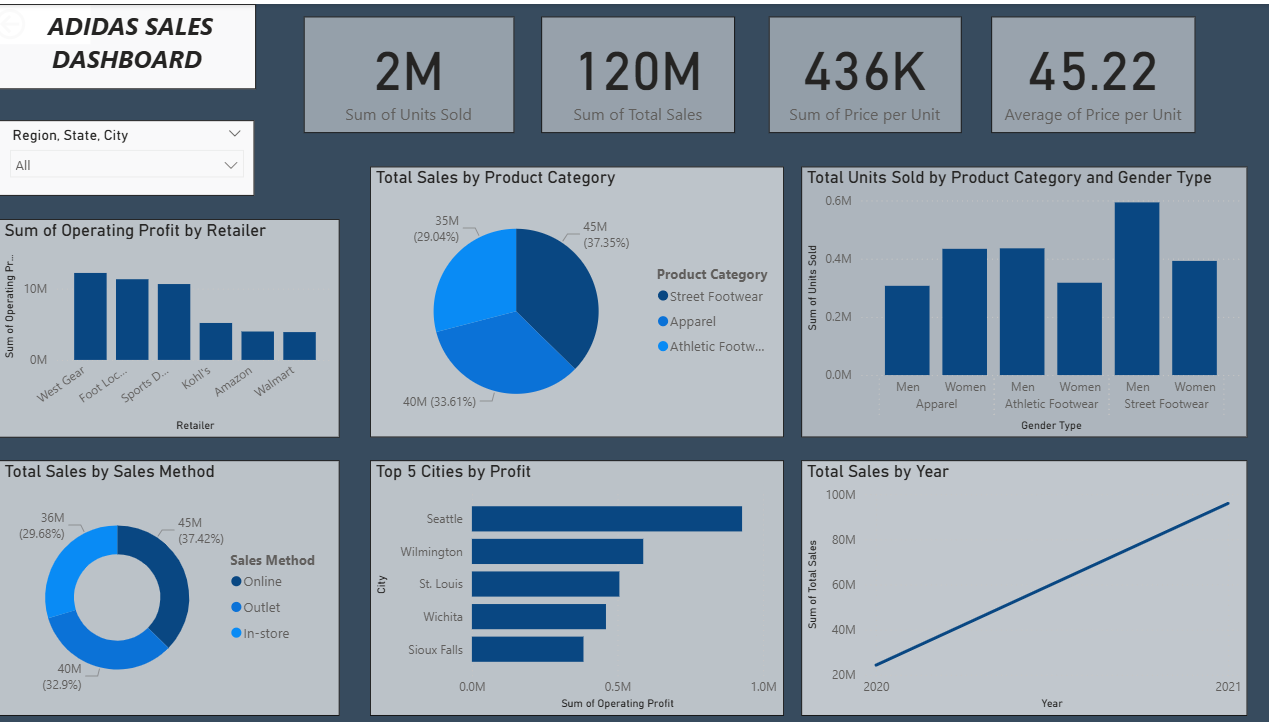

The page's visual inventory and layout, read from the dashboard file:
{"tool":"powerbi","page":{"name":"ADIDAS SALES DASHBOARD","canvas":[1280,720],"ordinal":3},"visuals":[{"type":"card","fields":{"Values":["Sum(Adidas_Sales.Total Sales)"]},"box":[548.8,12.8,193,116.3],"z":0},{"type":"card","fields":{"Values":["Sum(Adidas_Sales.Price per Unit)"]},"box":[775.6,12.8,191.9,116.3],"z":1000},{"type":"card","fields":{"Values":["Avg(Adidas_Sales.Price per Unit)"]},"box":[996.5,12.8,203.5,116.3],"z":2000},{"type":"card","fields":{"Values":["Sum(Adidas_Sales.Units Sold)"]},"box":[311.6,12.8,209.3,116.3],"z":3000},{"type":"columnChart","fields":{"Category":["Adidas_Sales.Retailer"],"Y":["Sum(Adidas_Sales.Operating Profit)"]},"box":[9.3,214,339.5,217.4],"z":4000},{"type":"pieChart","title":"Total Sales by Product Category","fields":{"Category":["Adidas_Sales.Product Category"],"Y":["Sum(Adidas_Sales.Total Sales)"]},"box":[377.9,161.6,411.6,269.8],"z":5000},{"type":"clusteredColumnChart","title":"Total Units Sold by Product Category and Gender Type","fields":{"Y":["Sum(Adidas_Sales.Units Sold)"],"Category":["Adidas_Sales.Product Category","Adidas_Sales.Gender Type"]},"box":[807,161.6,444.2,269.8],"z":6000},{"type":"donutChart","title":"Total Sales by Sales Method","fields":{"Category":["Adidas_Sales.Sales Method"],"Y":["Sum(Adidas_Sales.Total Sales)"]},"box":[9.3,453.5,339.5,254.7],"z":7000},{"type":"barChart","title":"Top 5 Cities by Profit","fields":{"Category":["Adidas_Sales.City"],"Y":["Sum(Adidas_Sales.Operating Profit)"]},"box":[377.9,453.5,411.6,254.7],"z":8000},{"type":"slicer","fields":{"Values":["Adidas_Sales.Region","Adidas_Sales.State","Adidas_Sales.City"]},"box":[9.3,115.1,254.7,75.6],"z":9000},{"type":"lineChart","title":"Total Sales by Year","fields":{"Category":["Adidas_Sales.Invoice Date.Variation.Date Hierarchy.Year","Adidas_Sales.Invoice Date.Variation.Date Hierarchy.Month","Adidas_Sales.Invoice Date.Variation.Date Hierarchy.Day"],"Y":["Sum(Adidas_Sales.Total Sales)"]},"box":[807,453.5,444.2,254.7],"z":10000},{"type":"actionButton","box":[0,0,100,40],"z":11000},{"type":"textbox","box":[9.3,0,255.8,84.9],"z":12000}]}

Visuals, with their boxes in screenshot pixels (x1, y1, x2, y2), scaled from the page's 1280x720 canvas onto the 1269x722 screenshot:
card - Sum(Adidas_Sales.Total Sales): <region>544, 13, 735, 129</region>
card - Sum(Adidas_Sales.Price per Unit): <region>769, 13, 959, 129</region>
card - Avg(Adidas_Sales.Price per Unit): <region>988, 13, 1190, 129</region>
card - Sum(Adidas_Sales.Units Sold): <region>309, 13, 516, 129</region>
columnChart - Adidas_Sales.Retailer x Sum(Adidas_Sales.Operating Profit): <region>9, 215, 346, 433</region>
"Total Sales by Product Category" pieChart: <region>375, 162, 783, 433</region>
"Total Units Sold by Product Category and Gender Type" clusteredColumnChart: <region>800, 162, 1240, 433</region>
"Total Sales by Sales Method" donutChart: <region>9, 455, 346, 710</region>
"Top 5 Cities by Profit" barChart: <region>375, 455, 783, 710</region>
slicer - Adidas_Sales.Region x Adidas_Sales.State: <region>9, 115, 262, 191</region>
"Total Sales by Year" lineChart: <region>800, 455, 1240, 710</region>
actionButton: <region>0, 0, 99, 40</region>
textbox: <region>9, 0, 263, 85</region>
